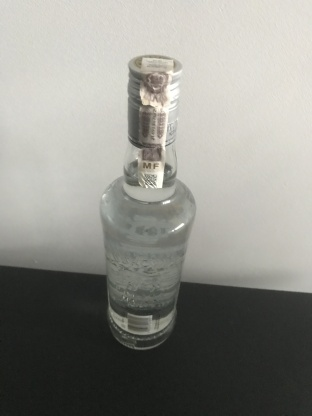nakretka: (125, 53, 183, 150)
